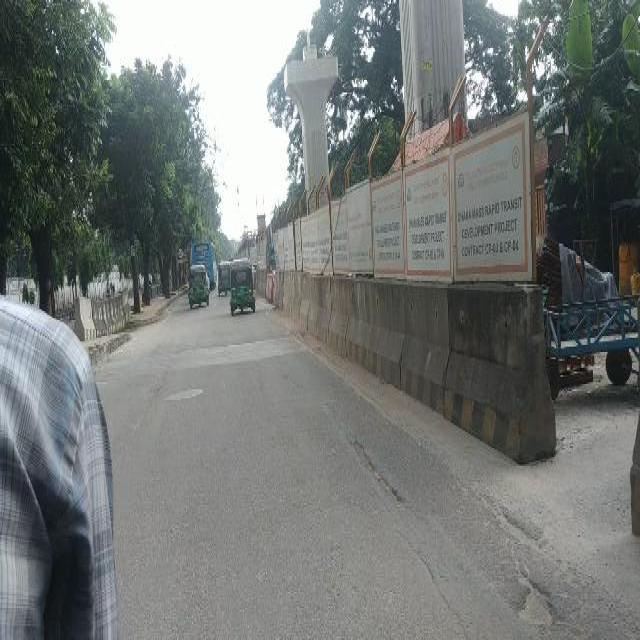bus: (209, 241, 217, 289)
three wheelers -CNG-: (228, 256, 256, 316), (186, 262, 208, 307), (218, 260, 228, 295)
